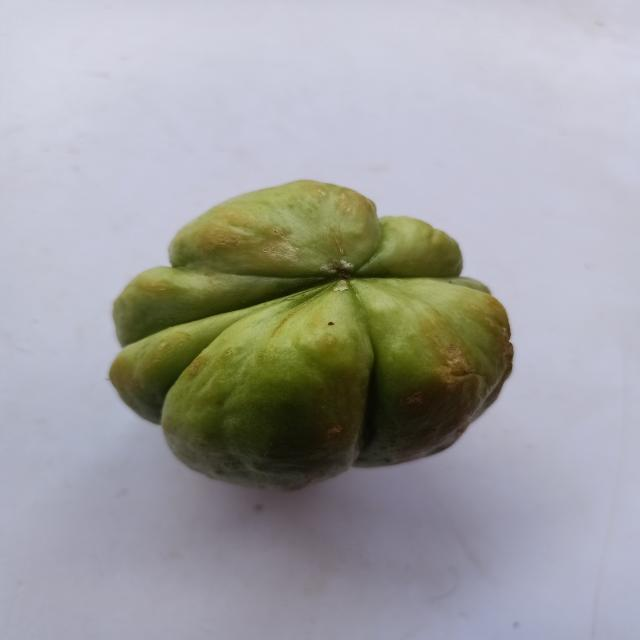Chayote: (88, 168, 548, 510)
